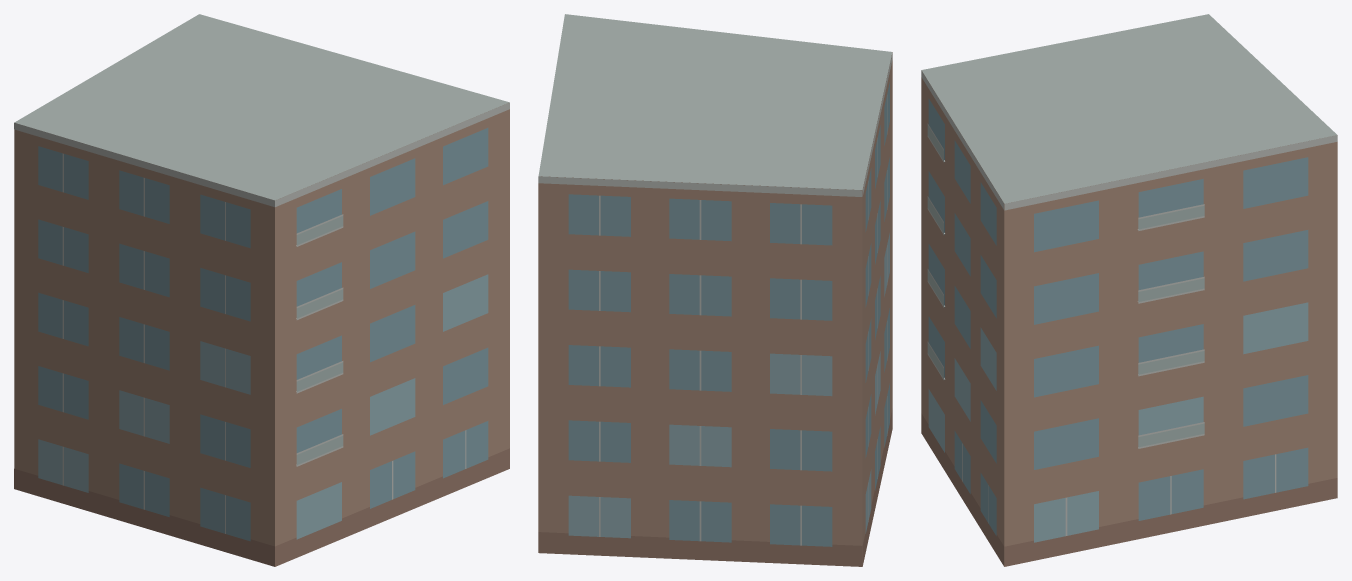
Rendered from survey-upis-32659086.glb.
The picture shows the model from 3 angles, left to right: view 1: azimuth 30°, elevation 25°; view 2: azimuth 150°, elevation 25°; view 3: azimuth 270°, elevation 25°; orthographic projection. The views are drawn at different scales.
Visible parts, largest first — view 1: survey-upis-32659086.tmp; view 2: survey-upis-32659086.tmp; view 3: survey-upis-32659086.tmp.
Part boxes in pixels (x1,y1,x2,y2): survey-upis-32659086.tmp: [14, 14, 509, 566]; survey-upis-32659086.tmp: [538, 14, 892, 566]; survey-upis-32659086.tmp: [921, 14, 1337, 566].
Size of the model in its own units: 14.74 by 13.14 by 13.66.
